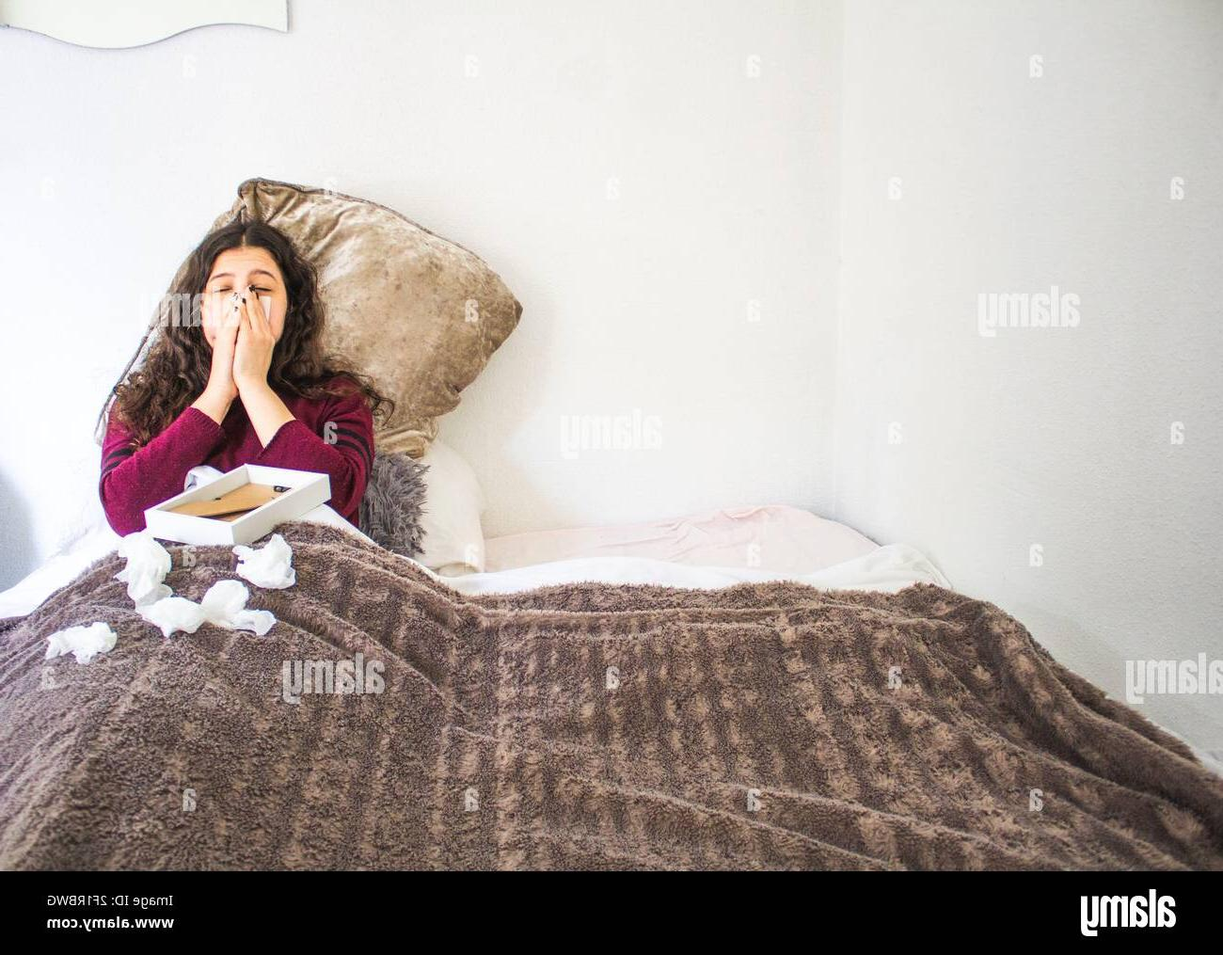blanket: (0, 517, 1223, 872)
